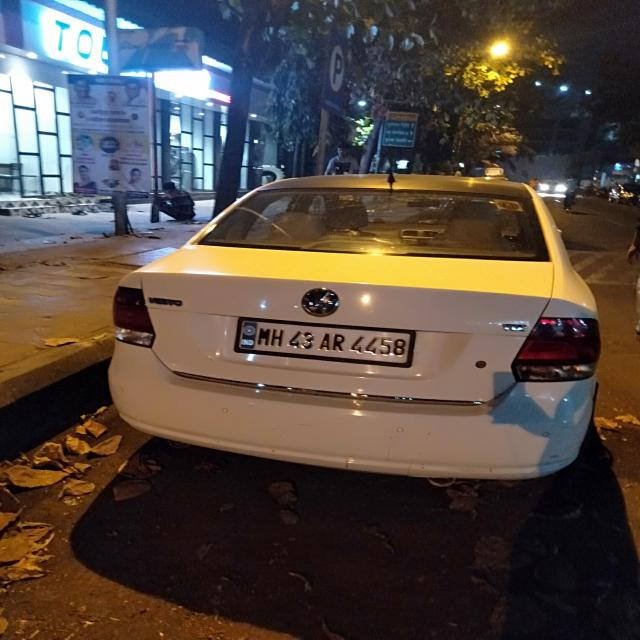Number-Plate: (232, 323, 410, 361)
